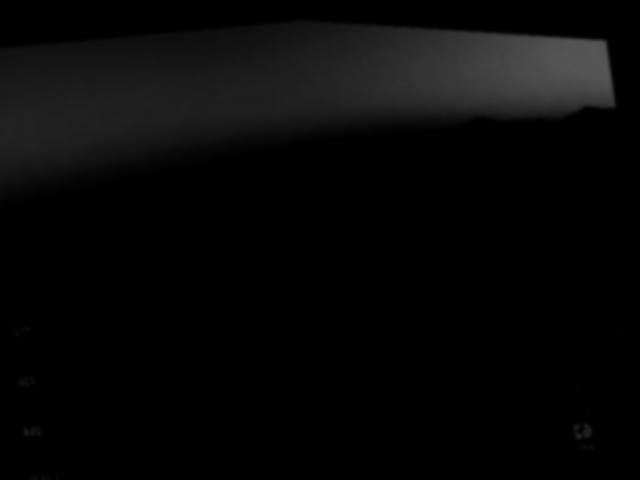hedef: (457, 352, 510, 396)
